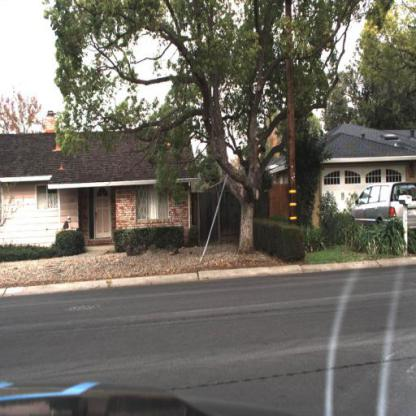car: (346, 181, 416, 234)
